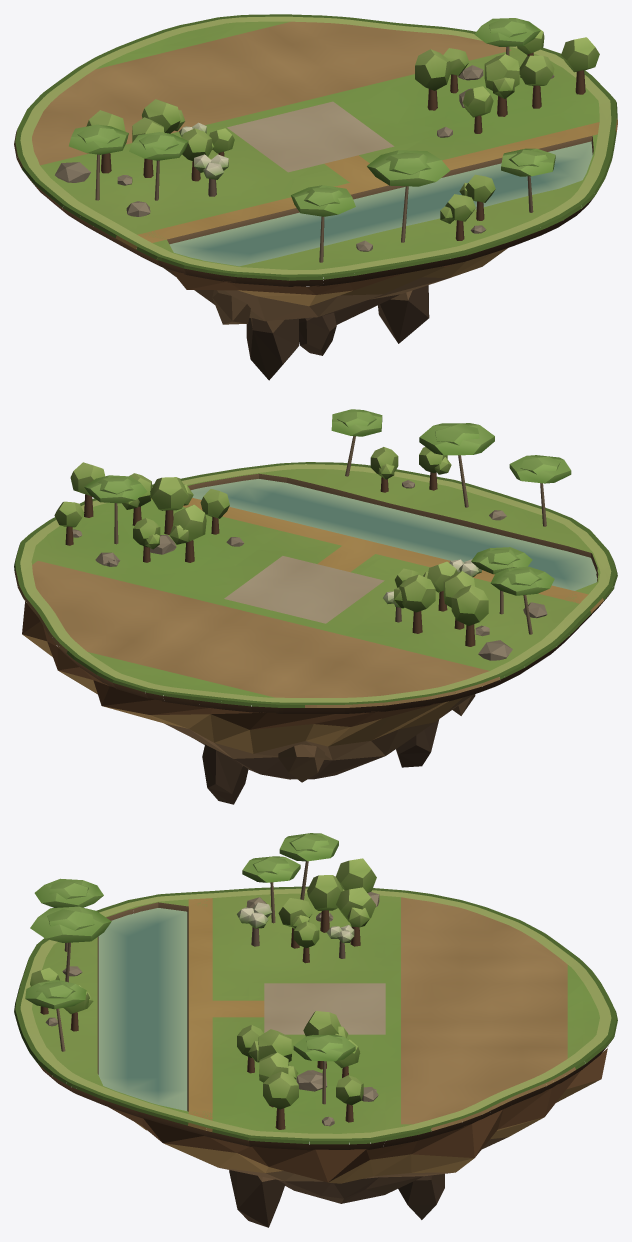
File: title_island_hoi_an.glb
3 views of the same model, one above another, from view 1: azimuth 30°, elevation 25°; view 2: azimuth 150°, elevation 25°; view 3: azimuth 270°, elevation 25° (orthographic). The views are drawn at different scales.
Parts seen in each view (by area): view 1: TitleIslandTerrain, TitleIslandWater; view 2: TitleIslandTerrain, TitleIslandWater; view 3: TitleIslandTerrain, TitleIslandWater.
Boxes of the visible parts, x1,y1,x2,y2 form: TitleIslandTerrain: (14,14,617,380); TitleIslandWater: (169,141,592,266); TitleIslandTerrain: (14,409,617,804); TitleIslandWater: (191,479,597,590); TitleIslandTerrain: (14,833,617,1227); TitleIslandWater: (98,908,187,1110).
Bounding box in the file's own units: 39.91 × 19.74 × 39.82.
